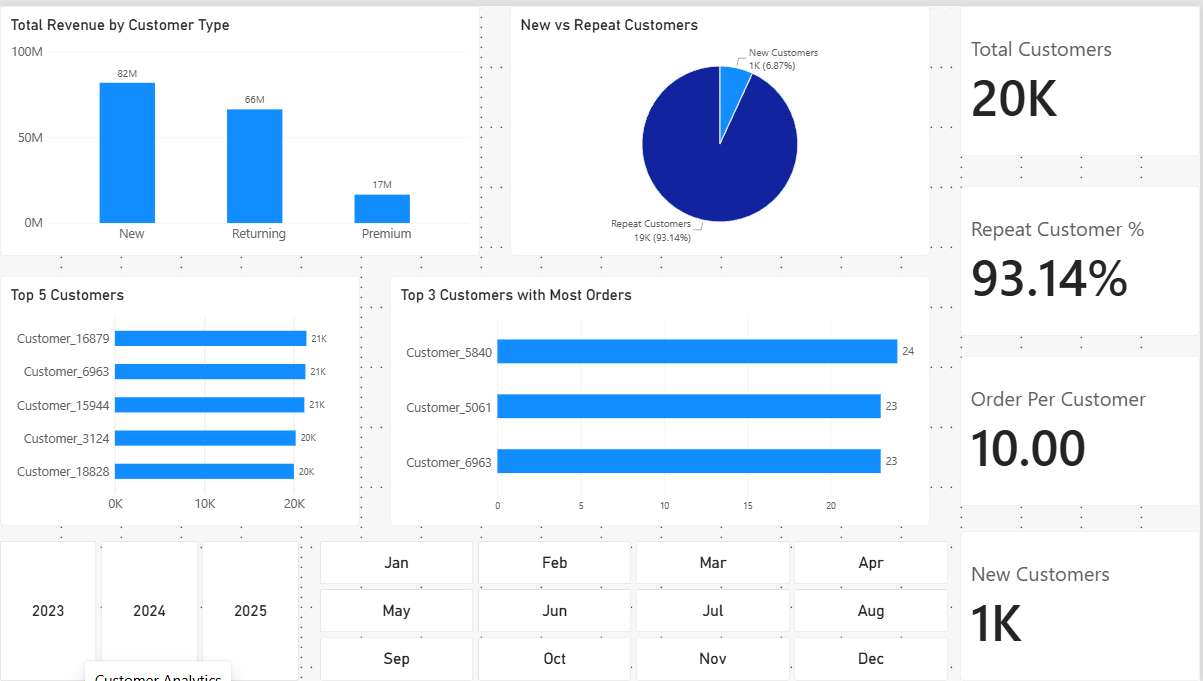

The page's visual inventory and layout, read from the dashboard file:
{"tool":"powerbi","page":{"name":"Customer Analytics","canvas":[1920,1080],"ordinal":1},"visuals":[{"type":"cardVisual","fields":{"Data":["Orders.New Customers"]},"box":[1536,840,384,240],"z":0},{"type":"cardVisual","fields":{"Data":["Orders.Order Per Customer"]},"box":[1536,560,384,240],"z":1000},{"type":"cardVisual","fields":{"Data":["Orders.Repeat Customer %"]},"box":[1536,288,384,240],"z":2000},{"type":"cardVisual","fields":{"Data":["Orders.Total Customers"]},"box":[1536,0,384,240],"z":3000},{"type":"columnChart","title":"Total Revenue by Customer Type","fields":{"Category":["Customers.CustomerType"],"Y":["Orders.Total Revenue"]},"box":[0,0,768,400],"z":4000},{"type":"clusteredBarChart","title":"Top 5 Customers","fields":{"Category":["Customers.CustomerName"],"Y":["Orders.Total Revenue"]},"box":[0,432,576,400],"z":5000},{"type":"pieChart","title":"New vs Repeat Customers","fields":{"Y":["Orders.New Customers","Orders.Repeat Customers"]},"box":[816,0,672,400],"z":6000},{"type":"barChart","title":"Top 3 Customers with Most Orders","fields":{"Category":["Customers.CustomerName"],"Y":["Orders.Total Orders"]},"box":[624,432,864,400],"z":7000},{"type":"advancedSlicerVisual","fields":{"Values":["DateTable.Year"]},"box":[0,856,480,224],"z":8000},{"type":"advancedSlicerVisual","fields":{"Values":["DateTable.MonthName"]},"box":[512,856,1008,224],"z":9000}]}

Visuals, with their boxes in screenshot pixels (x1, y1, x2, y2), scaled from the page's 1920x1080 canvas onto the 1203x681 screenshot:
cardVisual - Orders.New Customers: x1=962 y1=530 x2=1202 y2=680
cardVisual - Orders.Order Per Customer: x1=962 y1=353 x2=1202 y2=504
cardVisual - Orders.Repeat Customer %: x1=962 y1=182 x2=1202 y2=333
cardVisual - Orders.Total Customers: x1=962 y1=0 x2=1202 y2=151
"Total Revenue by Customer Type" columnChart: x1=0 y1=0 x2=481 y2=252
"Top 5 Customers" clusteredBarChart: x1=0 y1=272 x2=361 y2=525
"New vs Repeat Customers" pieChart: x1=511 y1=0 x2=932 y2=252
"Top 3 Customers with Most Orders" barChart: x1=391 y1=272 x2=932 y2=525
advancedSlicerVisual - DateTable.Year: x1=0 y1=540 x2=301 y2=680
advancedSlicerVisual - DateTable.MonthName: x1=321 y1=540 x2=952 y2=680
